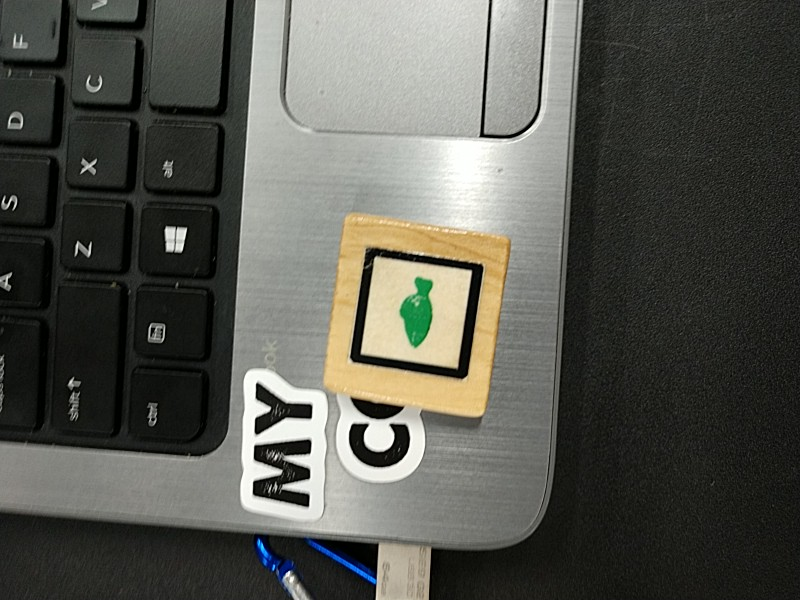Fish Tile: (349, 239, 485, 389)
